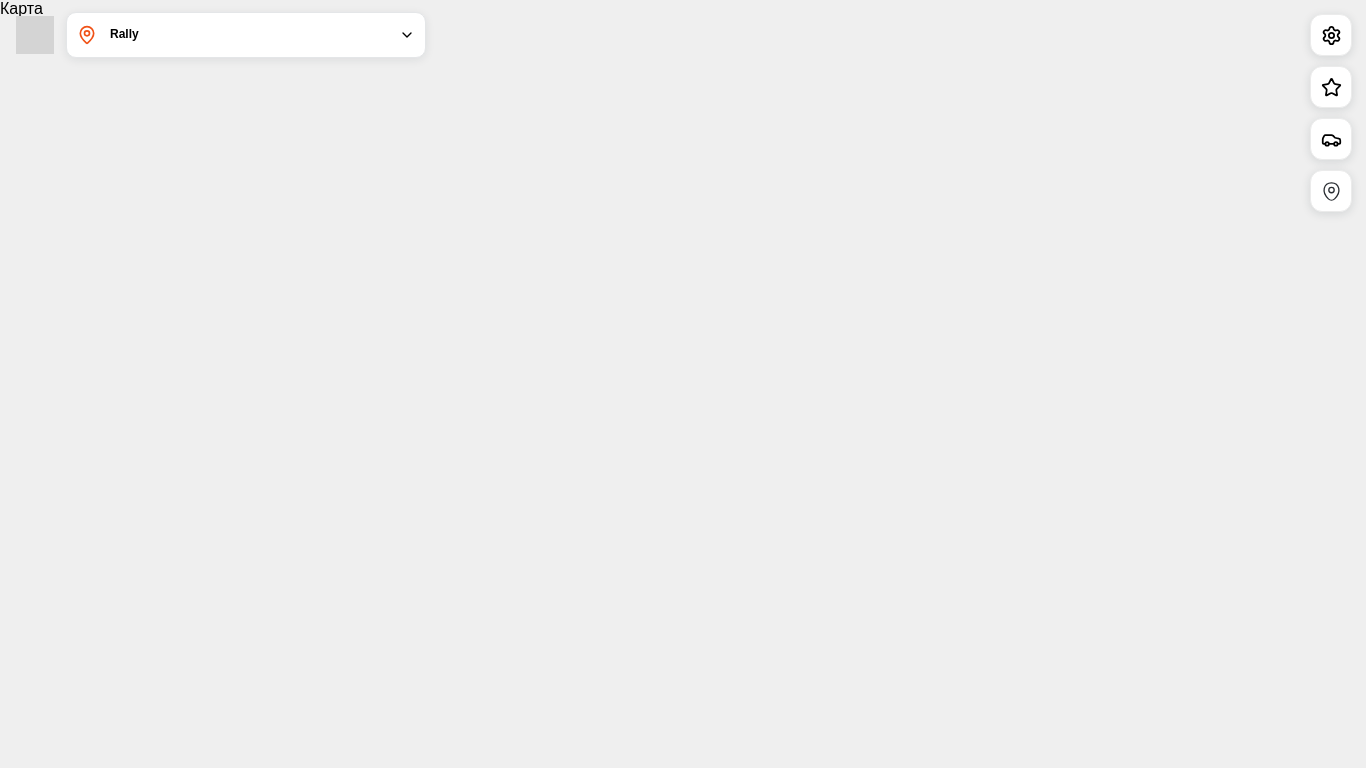
Test: MapView enhancements › shows followed crews on Map with overall place, gap and latest stage context
The width and height of the screenshot is (1366, 768).
Click the button named "Избранное" at (1331, 87), box [1310,66,1352,108]
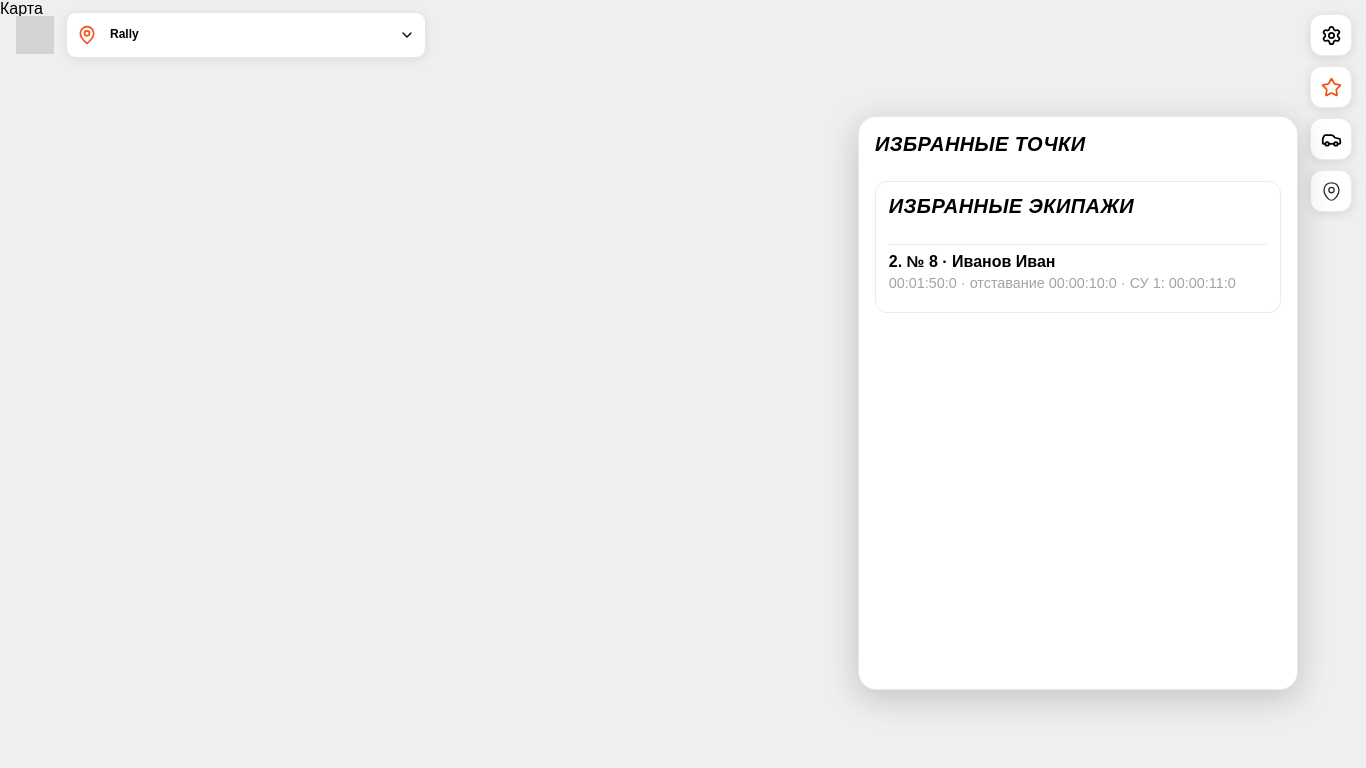
Check: the element "ИЗБРАННЫЕ ЭКИПАЖИ" shows "2. № 8 · Иванов Иван", box [875,181,1281,313]
Check: the element "ИЗБРАННЫЕ ЭКИПАЖИ" shows "отставание 00:00:10:0", box [970,275,1117,291]
Check: the element "ИЗБРАННЫЕ ЭКИПАЖИ" shows "СУ 1: 00:00:11:0", box [1117,275,1236,291]
